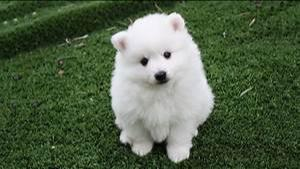dog: (109, 10, 215, 162)
